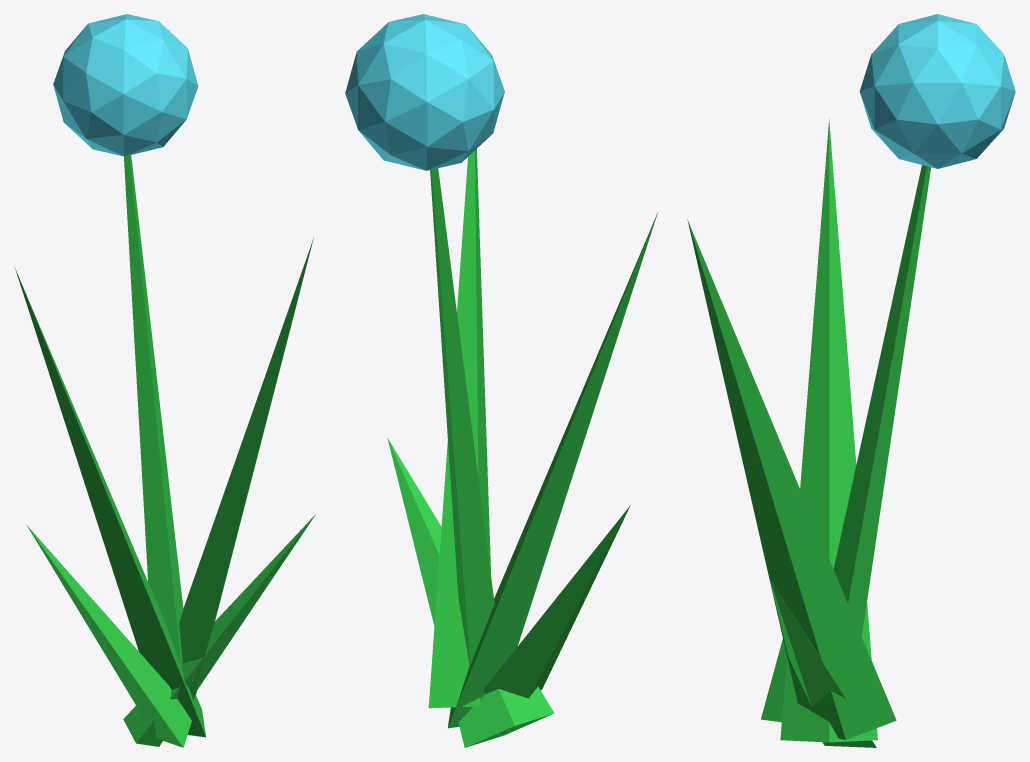
Rendered from FlowerBlue1.obj.
The picture shows the model from 3 angles, left to right: view 1: azimuth 30°, elevation 25°; view 2: azimuth 150°, elevation 25°; view 3: azimuth 270°, elevation 25°; orthographic projection. The views are drawn at different scales.
Visible parts, largest first — view 1: FlowerBlue1; view 2: FlowerBlue1; view 3: FlowerBlue1.
Part boxes in pixels (x1,y1,x2,y2): FlowerBlue1: (15,14,315,747); FlowerBlue1: (345,14,657,747); FlowerBlue1: (687,14,1015,747).
Bounding box in the file's own units: 0.0873 × 0.2078 × 0.0842.
